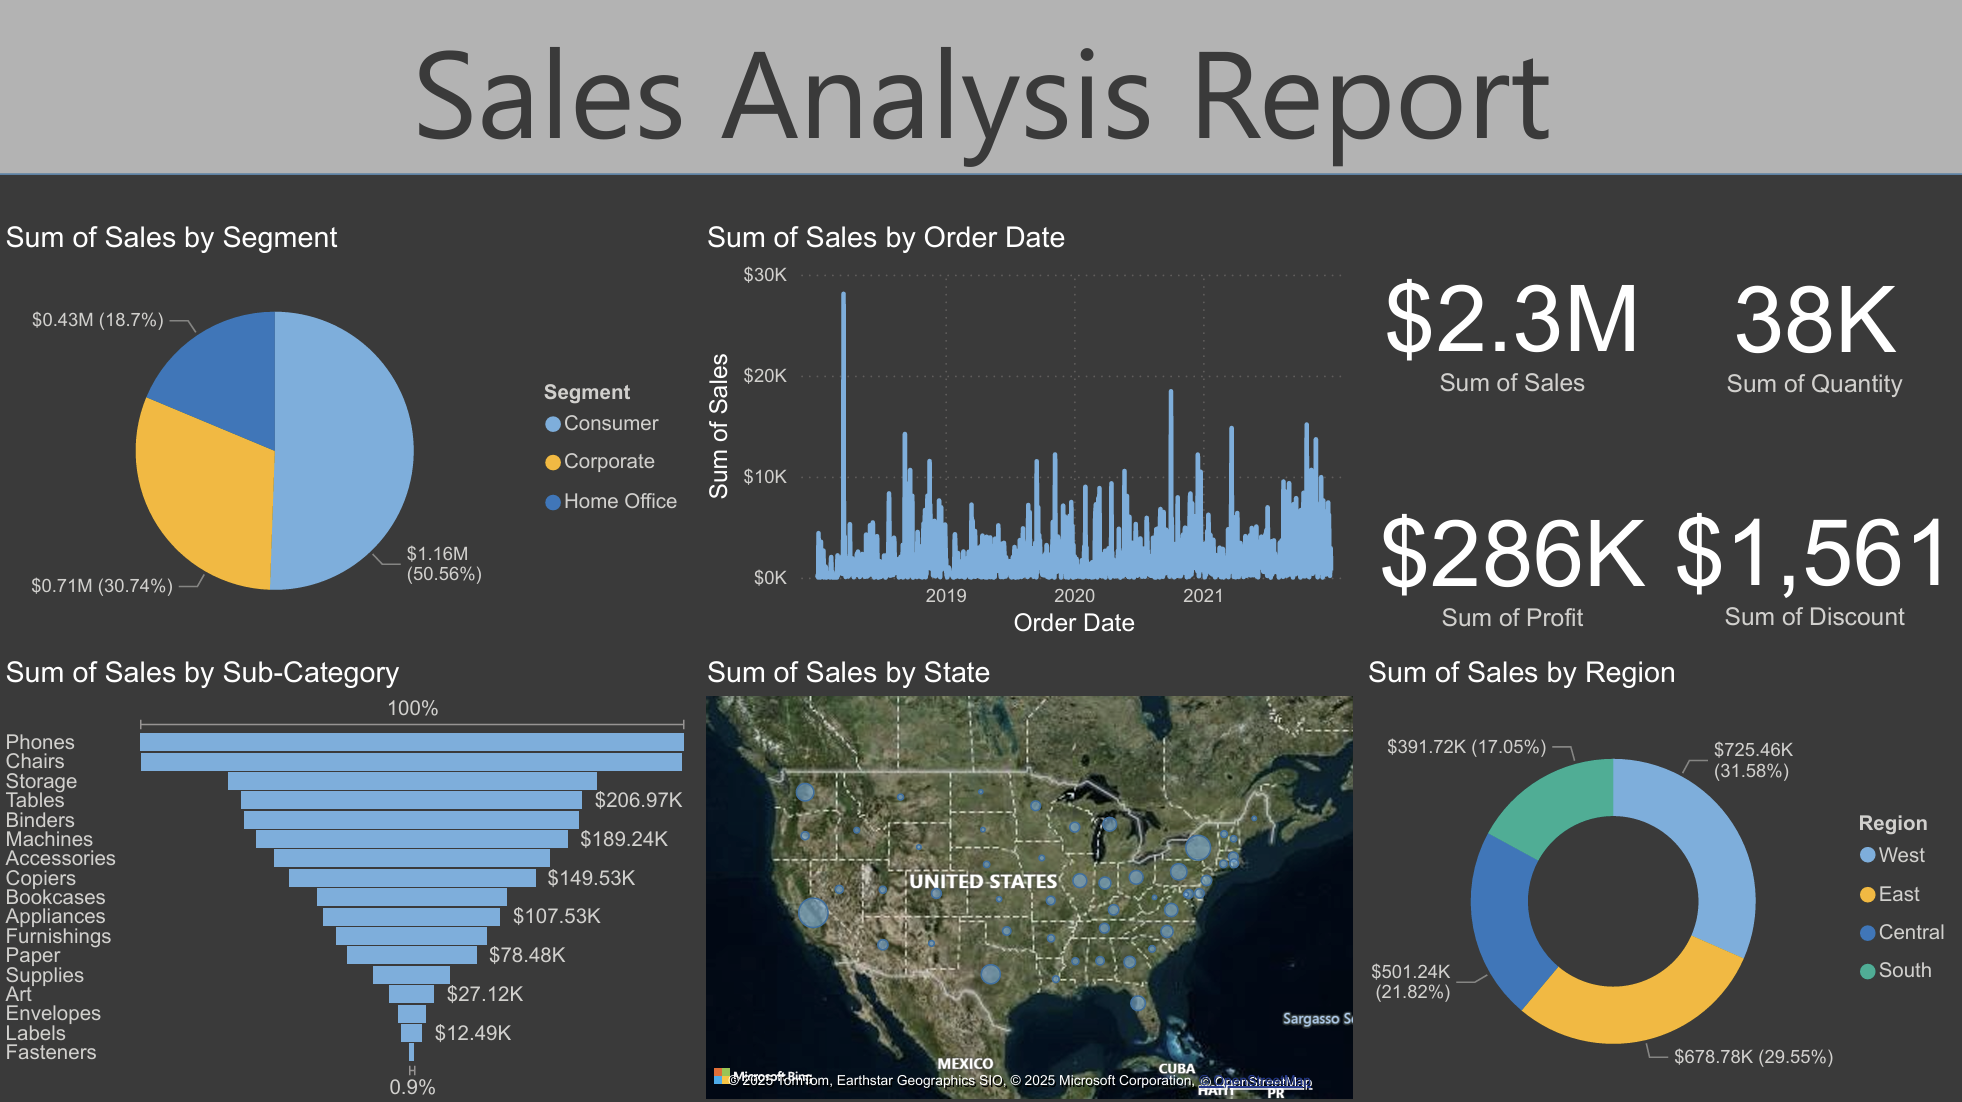

Layout of this report page (visuals, bound fields, positions):
{"tool":"powerbi","page":{"name":"Page 1","canvas":[1280,720],"ordinal":0},"visuals":[{"type":"donutChart","fields":{"Category":["Orders.Region"],"Y":["Sum(Orders.Sales)"]},"box":[886.2,428.3,394.9,297.4],"z":0},{"type":"funnel","fields":{"Category":["Orders.Sub-Category"],"Y":["Sum(Orders.Sales)"]},"box":[0,428.3,455.6,292.6],"z":1},{"type":"map","fields":{"Category":["Orders.State"],"Size":["Sum(Orders.Sales)"]},"box":[455.6,428.3,430.6,292.6],"z":2},{"type":"pieChart","fields":{"Category":["Orders.Segment"],"Y":["Sum(Orders.Sales)"]},"box":[0,145.1,455.6,278.4],"z":3},{"type":"lineChart","fields":{"Category":["Orders.Order Date"],"Y":["Sum(Orders.Sales)"]},"box":[455.6,145.1,430.6,274.8],"z":4},{"type":"card","fields":{"Values":["Sum(Orders.Sales)"]},"box":[886.2,145.1,197.5,134.4],"z":5},{"type":"card","fields":{"Values":["Sum(Orders.Quantity)"]},"box":[1082.5,145.1,197.5,135.6],"z":6},{"type":"card","fields":{"Values":["Sum(Orders.Profit)"]},"box":[886.2,304.5,197.5,121.3],"z":7},{"type":"card","fields":{"Values":["Sum(Orders.Discount)"]},"box":[1082.5,303.3,197.5,122.5],"z":8},{"type":"shape","box":[0,0,1280,115.4],"z":9}]}

Visuals, with their boxes in screenshot pixels (x1, y1, x2, y2), scaled from the page's 1280x720 canvas onto the 1962x1102 screenshot:
donutChart - Orders.Region x Sum(Orders.Sales): 1358,656,1961,1101
funnel - Orders.Sub-Category x Sum(Orders.Sales): 0,656,698,1101
map - Orders.State x Sum(Orders.Sales): 698,656,1358,1101
pieChart - Orders.Segment x Sum(Orders.Sales): 0,222,698,648
lineChart - Orders.Order Date x Sum(Orders.Sales): 698,222,1358,643
card - Sum(Orders.Sales): 1358,222,1661,428
card - Sum(Orders.Quantity): 1659,222,1961,430
card - Sum(Orders.Profit): 1358,466,1661,652
card - Sum(Orders.Discount): 1659,464,1961,652
shape: 0,0,1961,177
